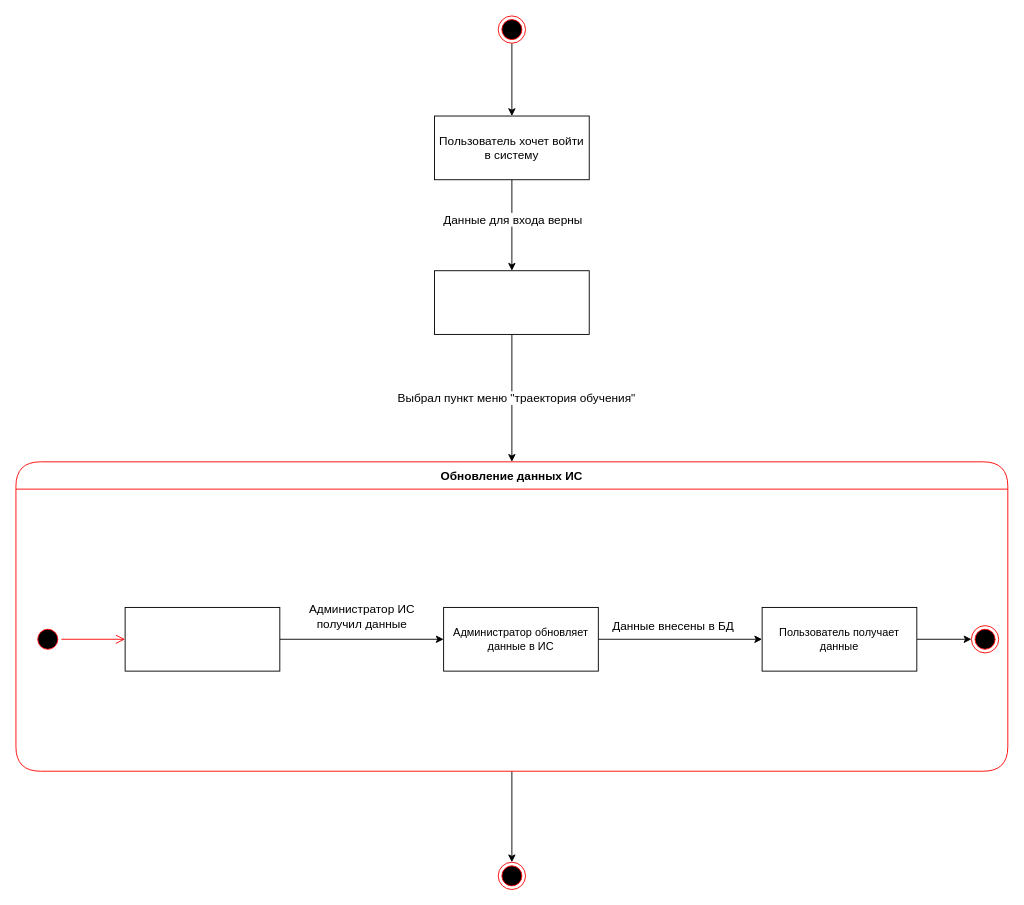
The diagram is 1024 pixels wide and 905 high, and some of its shapes have lost their labels. The box of each missing label's shape, as (x1, y1, x2, y2) in pixels:
Деканат передаёт данные учёта: (124, 607, 280, 671)
Пользователь зашёл в систему: (434, 270, 589, 334)
